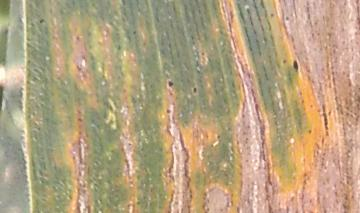tarspot: (289, 58, 301, 74), (34, 15, 50, 27), (162, 107, 178, 118), (164, 77, 177, 90), (129, 27, 141, 40), (304, 127, 319, 136), (279, 56, 290, 67), (214, 131, 224, 143), (188, 86, 202, 94), (267, 10, 278, 20), (282, 13, 291, 23)
